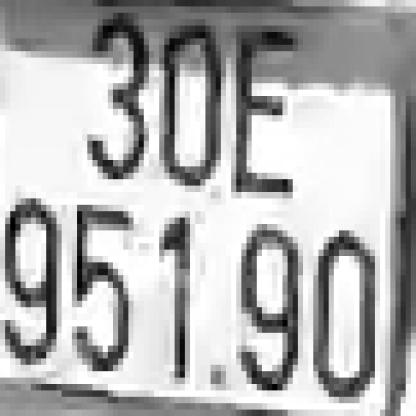0: (308, 224, 370, 397), (164, 19, 216, 192)
1: (160, 211, 206, 384)
3: (82, 19, 149, 179)
5: (77, 198, 134, 365)
9: (231, 218, 298, 384), (5, 198, 57, 358)
E: (231, 32, 293, 198)
